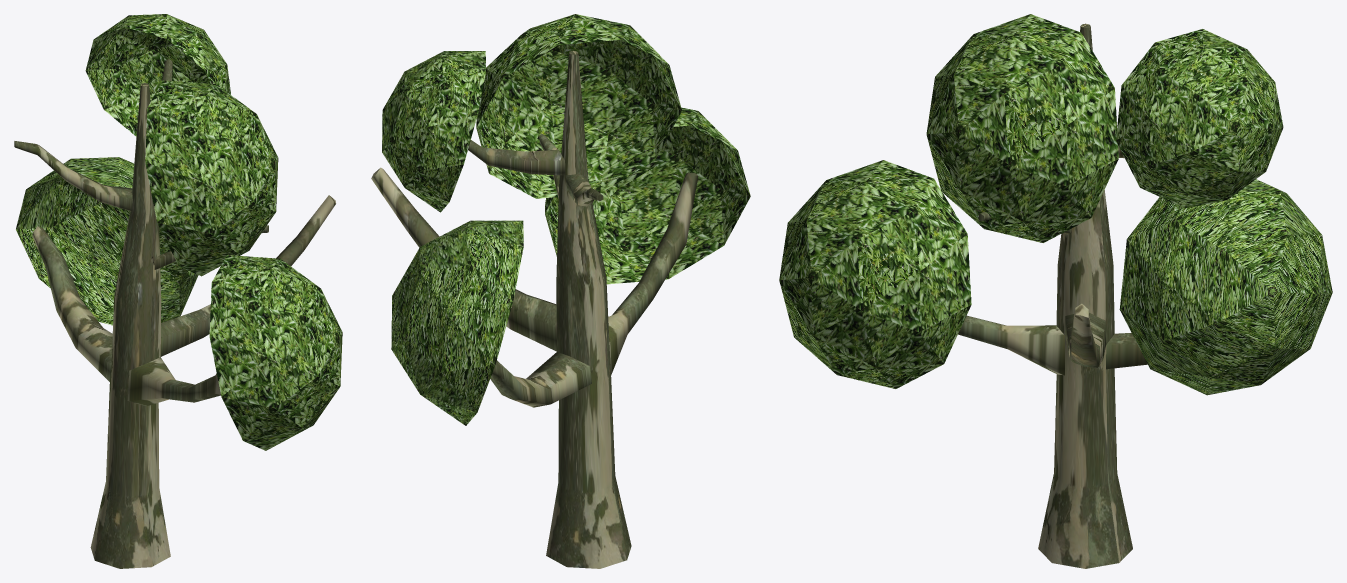
The model's file is tree.FBX.
The picture shows the model from 3 angles, left to right: view 1: azimuth 30°, elevation 25°; view 2: azimuth 150°, elevation 25°; view 3: azimuth 270°, elevation 25°; orthographic projection. The views are drawn at different scales.
Parts seen in each view (by area): view 1: Cylinder07; view 2: Cylinder07; view 3: Cylinder07.
Part boxes in pixels (x1,y1,x2,y2): Cylinder07: (14,14,342,568); Cylinder07: (371,14,750,568); Cylinder07: (779,14,1332,568).
Bounding box in the file's own units: 130 × 222 × 203.
